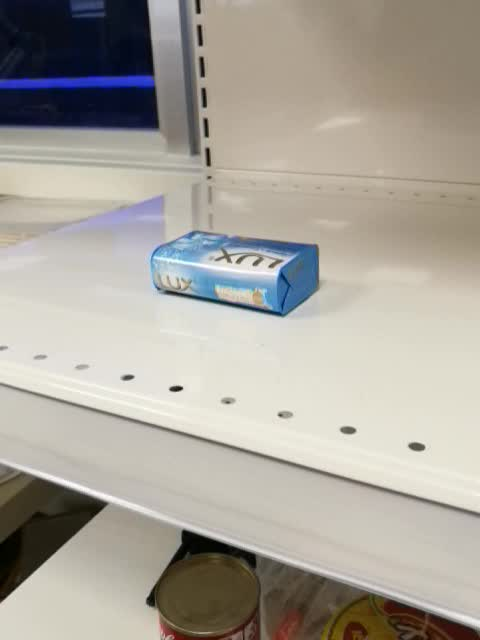soap: (149, 229, 322, 319)
